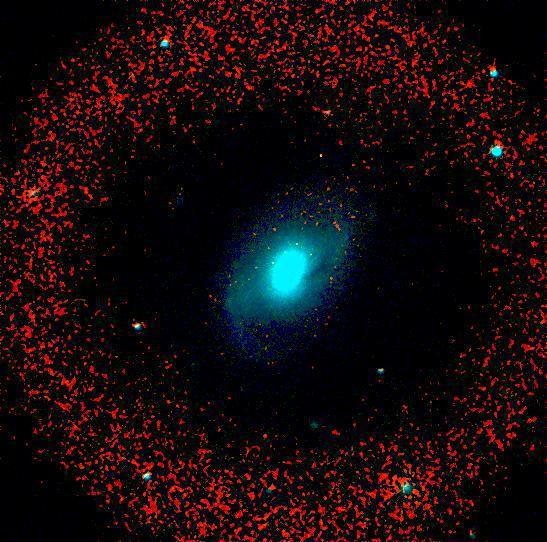star: (301, 139, 331, 169)
